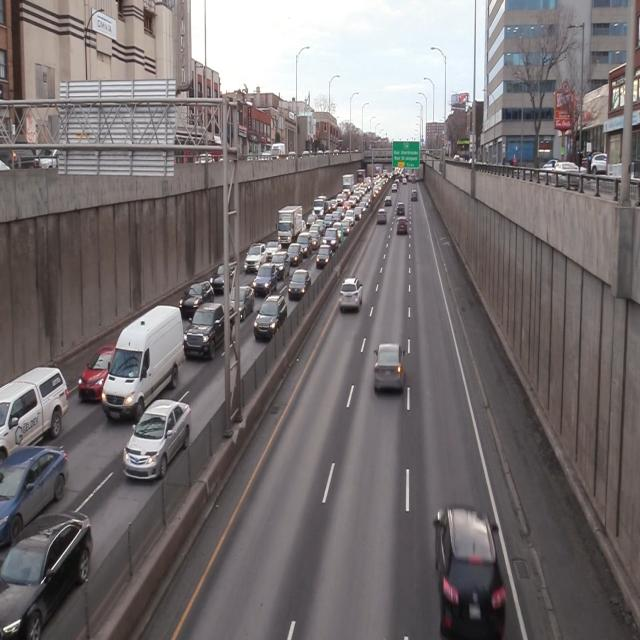Car: (0, 508, 93, 640), (101, 306, 182, 423), (434, 505, 506, 635), (0, 441, 71, 544), (0, 366, 70, 462), (122, 394, 192, 487), (182, 302, 237, 362), (76, 349, 112, 409), (374, 339, 408, 396), (254, 297, 287, 344), (228, 285, 255, 324), (338, 277, 366, 314), (180, 284, 214, 314), (210, 259, 237, 294), (252, 266, 278, 296), (288, 270, 312, 300)
